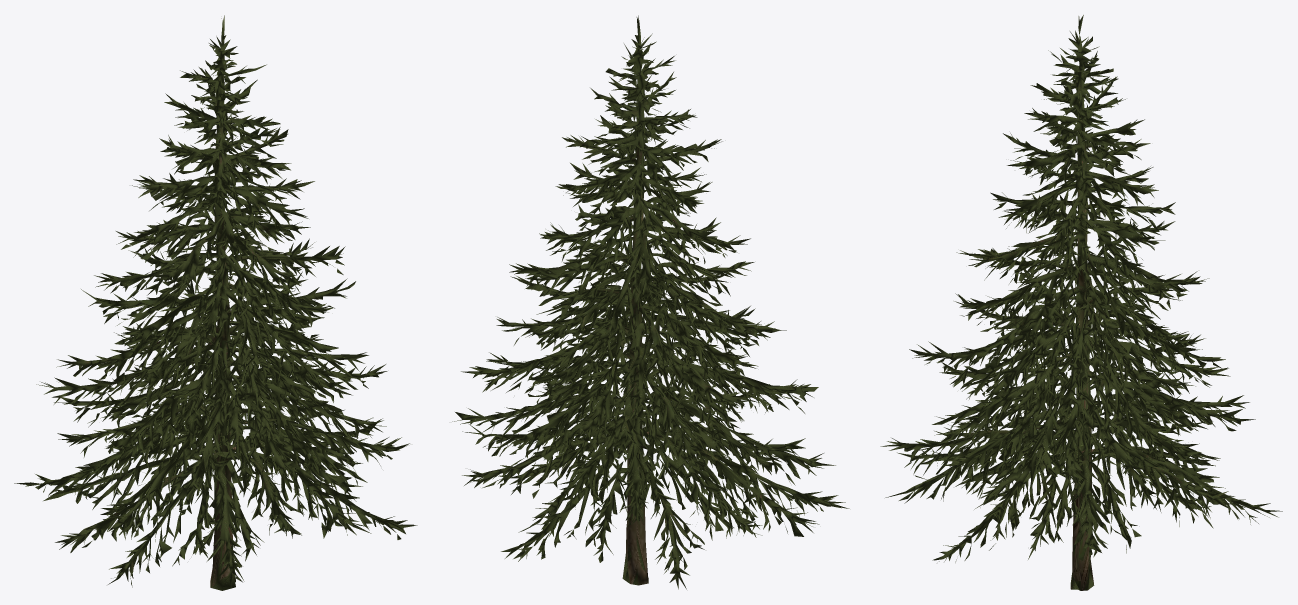
File: tree26.glb
The picture shows the model from 3 angles, left to right: view 1: azimuth 30°, elevation 25°; view 2: azimuth 150°, elevation 25°; view 3: azimuth 270°, elevation 25°; orthographic projection.
Bounding box in the file's own units: 1.2 × 1.9 × 1.22.
1 material, 1 textured.
